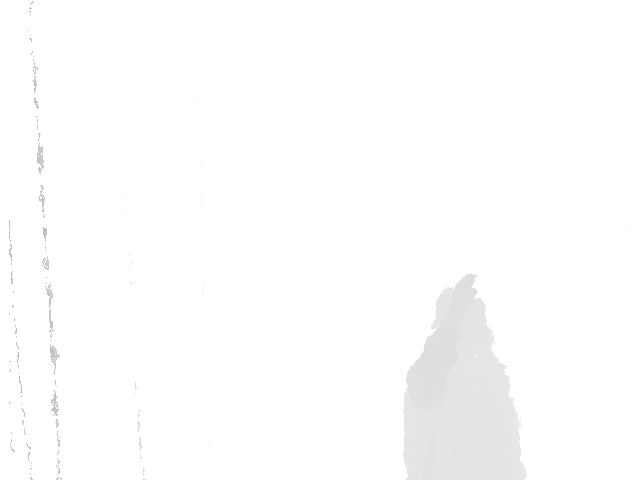hand: (441, 272, 480, 339)
head: (433, 286, 495, 358)
person: (400, 258, 527, 480)
